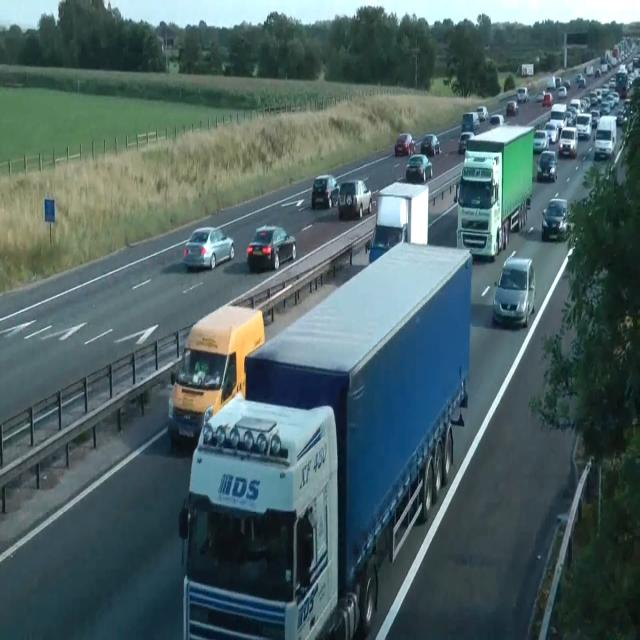bus: (246, 224, 296, 271), (183, 226, 235, 270), (541, 197, 569, 241), (311, 174, 339, 210), (406, 153, 432, 182), (394, 132, 416, 156), (418, 134, 441, 156), (532, 129, 550, 153), (458, 130, 475, 154), (543, 122, 559, 143), (516, 86, 529, 102), (506, 100, 518, 116), (489, 113, 505, 125), (476, 106, 488, 121), (590, 109, 600, 127), (615, 110, 627, 124), (542, 92, 552, 106), (576, 73, 586, 87), (557, 85, 567, 98)
car: (167, 302, 265, 446)
jeep: (492, 253, 536, 327), (336, 178, 372, 218), (594, 114, 616, 159), (536, 150, 558, 182), (558, 125, 578, 158)
minibus: (178, 240, 472, 639), (455, 124, 535, 262), (367, 180, 429, 265), (521, 63, 533, 77)
